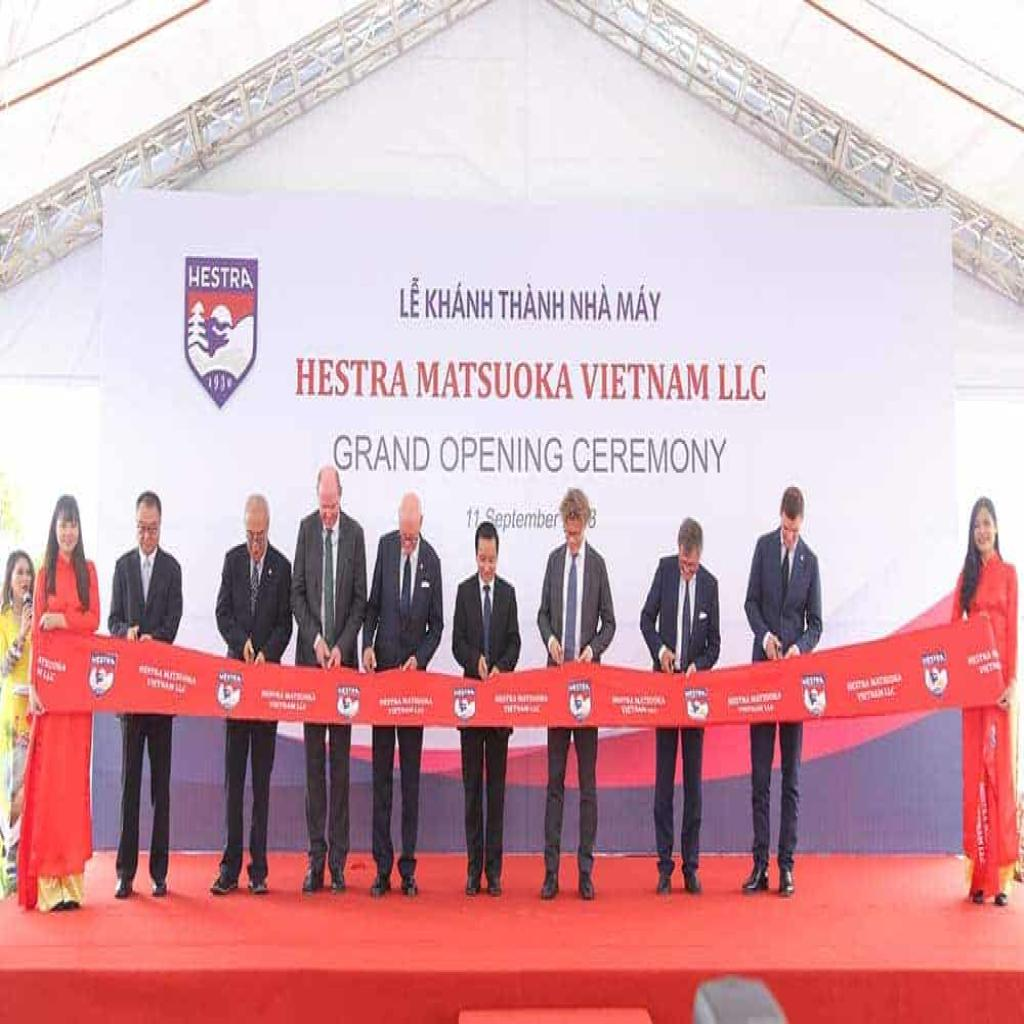text: (414, 352, 580, 404), (570, 432, 732, 482), (578, 356, 712, 406), (435, 428, 566, 478), (294, 351, 412, 401), (329, 422, 432, 478), (424, 281, 496, 324), (499, 281, 567, 326), (716, 355, 772, 408), (185, 258, 256, 292), (486, 501, 562, 532), (568, 281, 614, 326), (616, 283, 664, 324), (399, 272, 424, 324), (466, 503, 483, 532), (588, 505, 600, 533)
